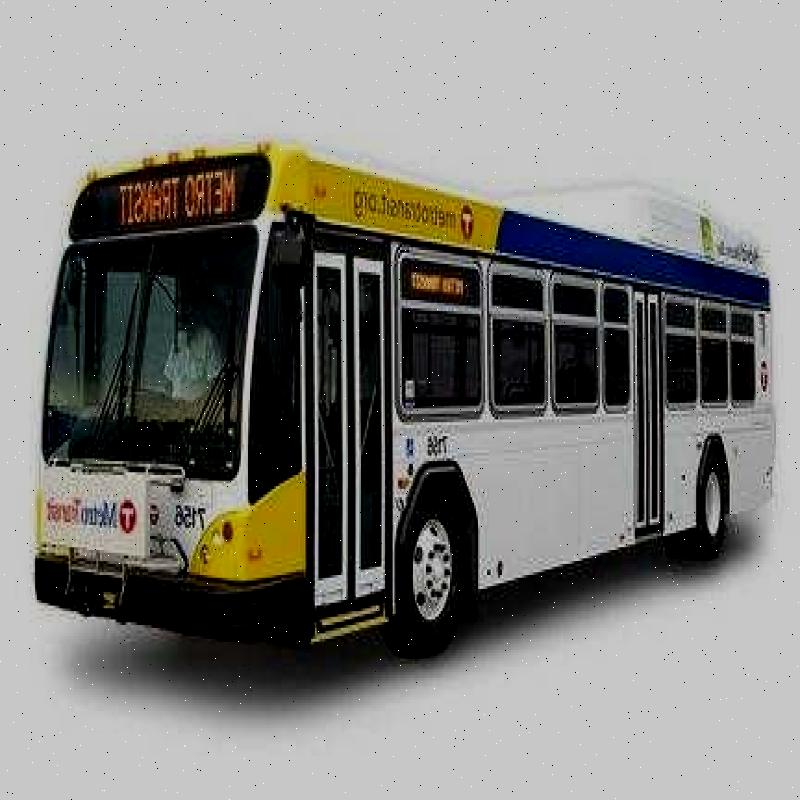bus: (23, 136, 777, 686)
